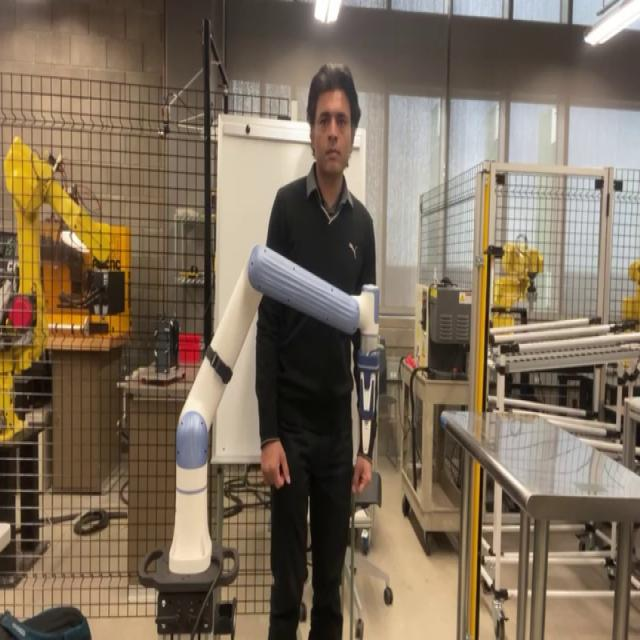human: (254, 61, 378, 639)
